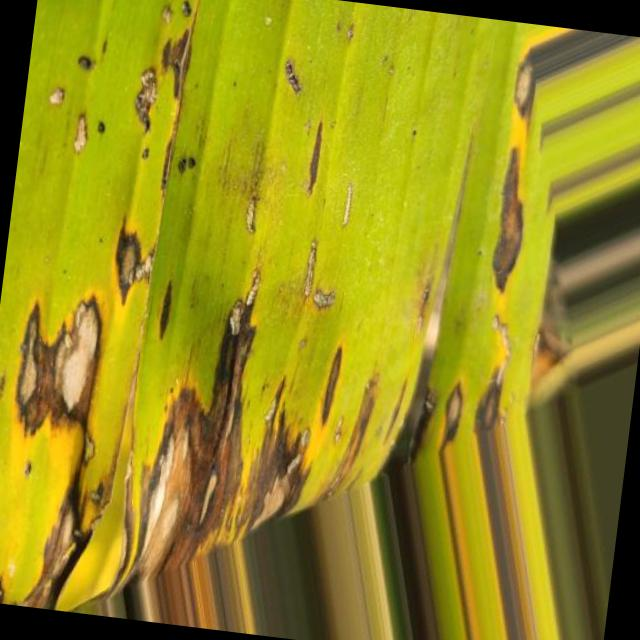Banana_Yellow_Sigatoka: (0, 261, 349, 632), (435, 60, 578, 455)
